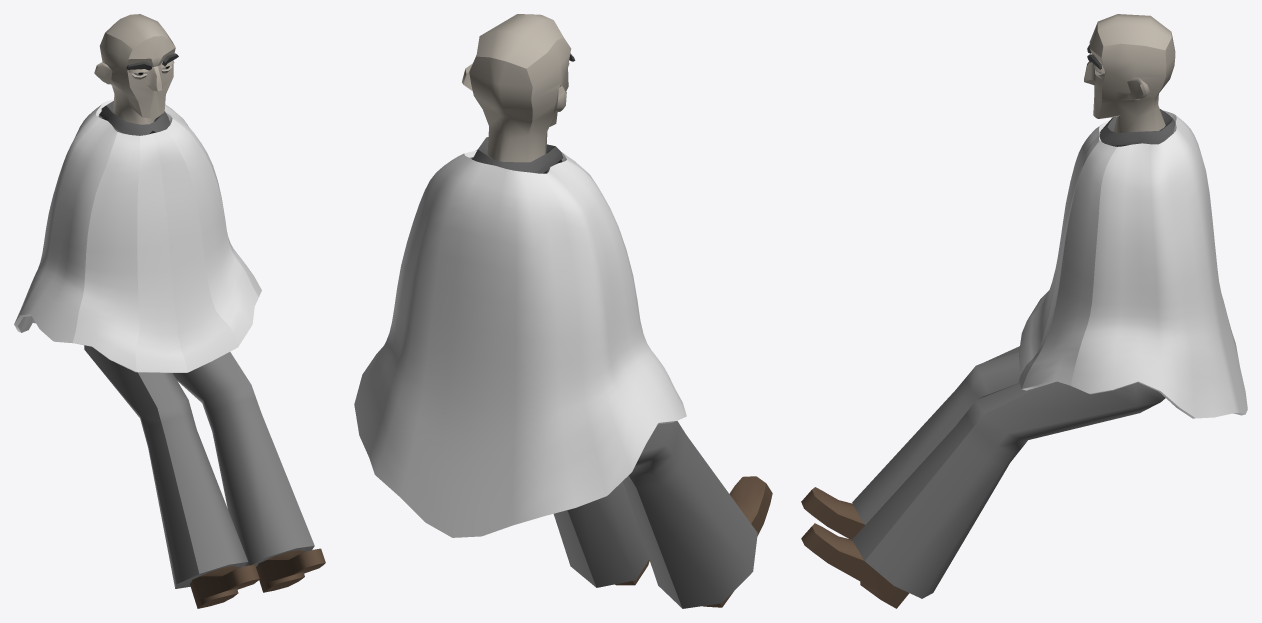
The model's file is Client.fbx.
3 renders of one model, left to right at view 1: azimuth 30°, elevation 25°; view 2: azimuth 150°, elevation 25°; view 3: azimuth 270°, elevation 25°, orthographic. The views are drawn at different scales.
Visible parts, largest first — view 1: bata, body_base, head_1; view 2: bata, body_base, head_1; view 3: bata, body_base, head_1.
Boxes of the visible parts, x1,y1,x2,y2 form: bata: [14, 99, 261, 372]; body_base: [84, 101, 325, 608]; head_1: [94, 14, 175, 124]; bata: [354, 149, 686, 537]; body_base: [471, 137, 772, 608]; head_1: [462, 14, 571, 162]; bata: [1018, 110, 1247, 418]; body_base: [801, 109, 1175, 608]; head_1: [1084, 14, 1175, 132].
Size of the model in its own units: 0.8437 by 1.89 by 1.35.
